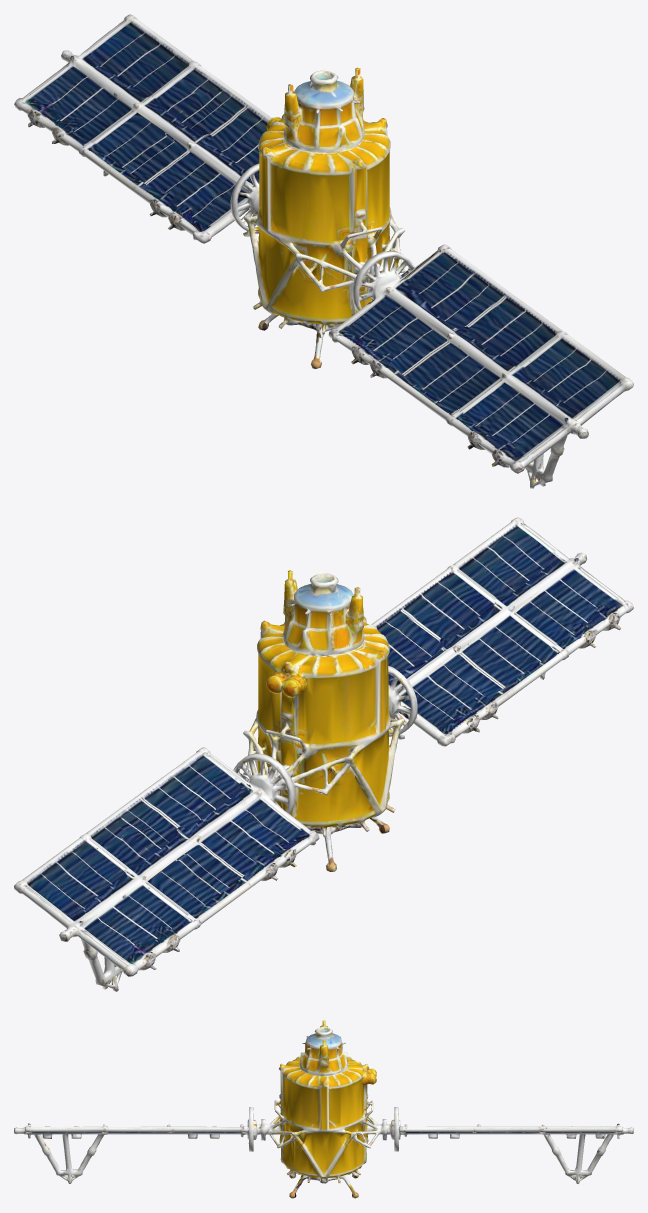
Rendered from satellite.glb.
3 renders of one model, top to bottom at view 1: azimuth 30°, elevation 25°; view 2: azimuth 150°, elevation 25°; view 3: azimuth 270°, elevation 25°, orthographic. The views are drawn at different scales.
Visible parts, largest first — view 1: satellite; view 2: satellite; view 3: satellite.
Part boxes in pixels (x1,y1,x2,y2): satellite: (14,14,633,488); satellite: (14,517,633,991); satellite: (14,1020,633,1198).
Bounding box in the file's own units: 0.141 × 0.2812 × 1.
1 material, 1 textured.
